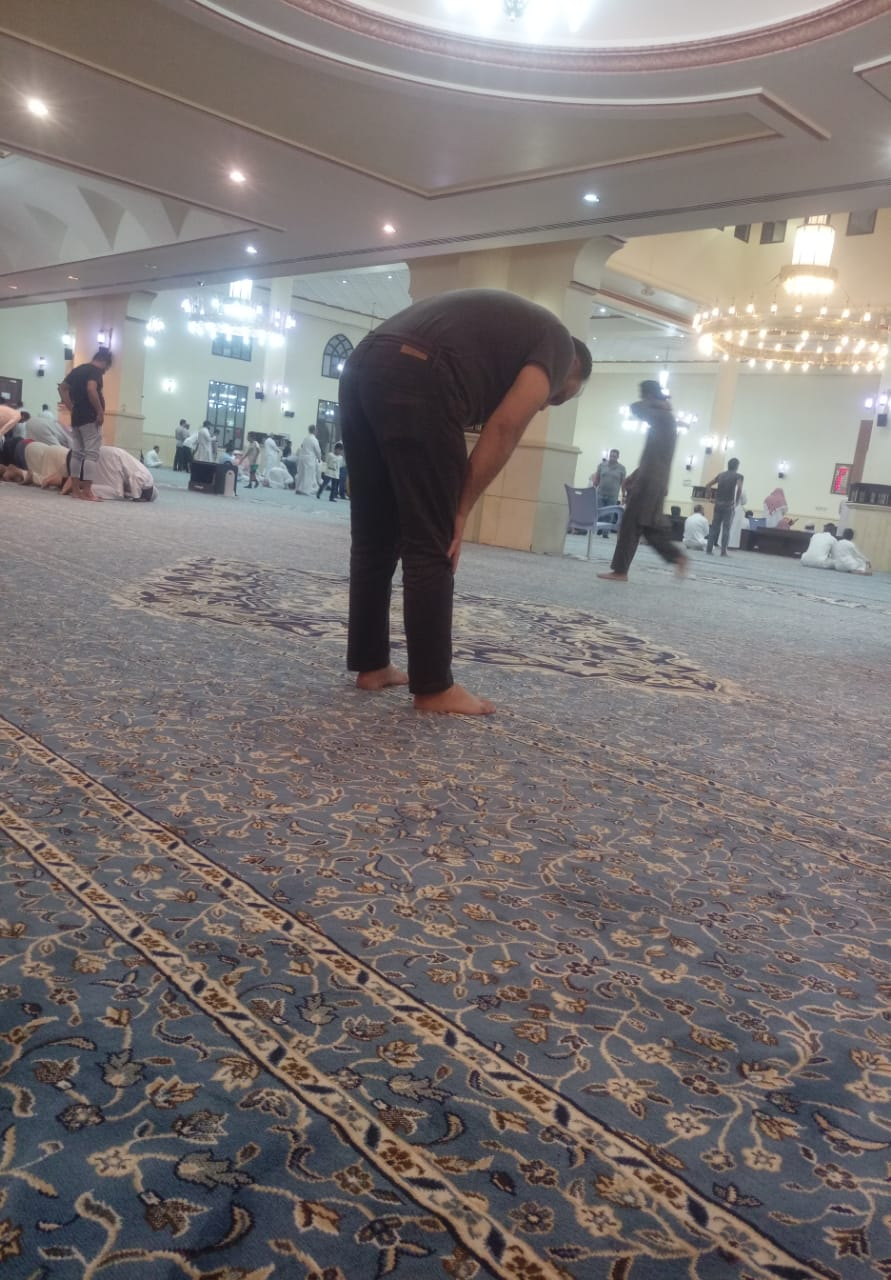ruku: (314, 229, 617, 861)
